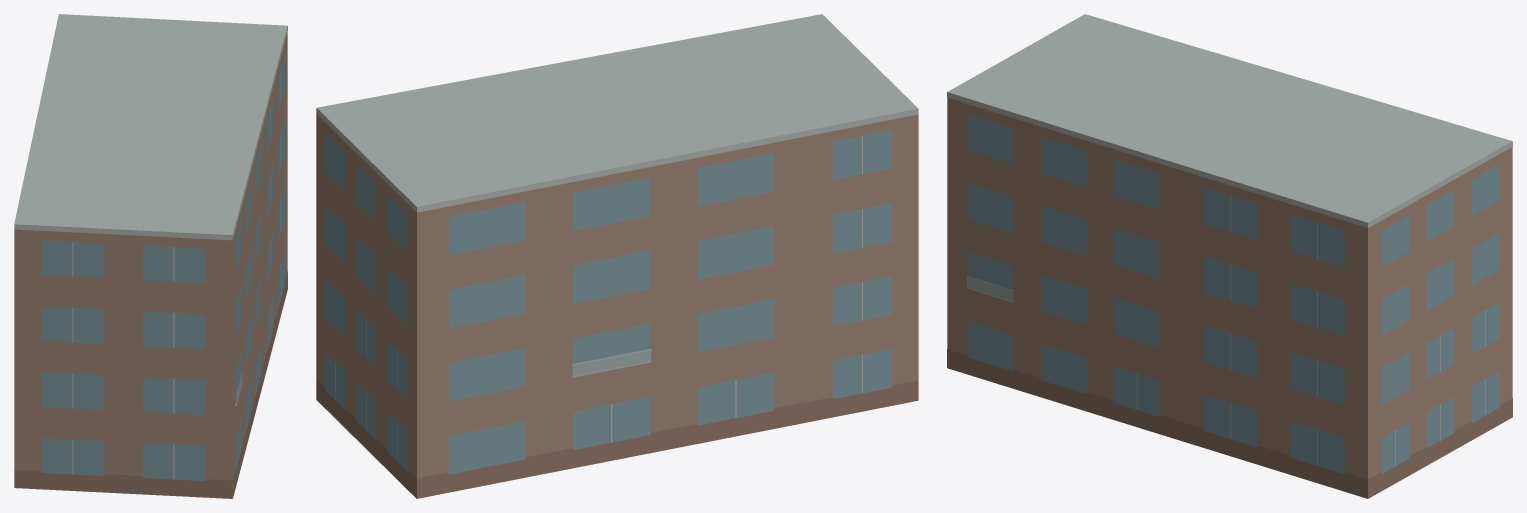
The model's file is survey-upis-32578769.glb.
The picture shows the model from 3 angles, left to right: view 1: azimuth 30°, elevation 25°; view 2: azimuth 150°, elevation 25°; view 3: azimuth 270°, elevation 25°; orthographic projection. The views are drawn at different scales.
Visible parts, largest first — view 1: survey-upis-32578769.tmp; view 2: survey-upis-32578769.tmp; view 3: survey-upis-32578769.tmp.
Part boxes in pixels (x1,y1,x2,y2): survey-upis-32578769.tmp: [14, 14, 287, 498]; survey-upis-32578769.tmp: [316, 14, 918, 498]; survey-upis-32578769.tmp: [947, 14, 1512, 498].
Size of the model in its own units: 20.12 by 12.4 by 23.03.
